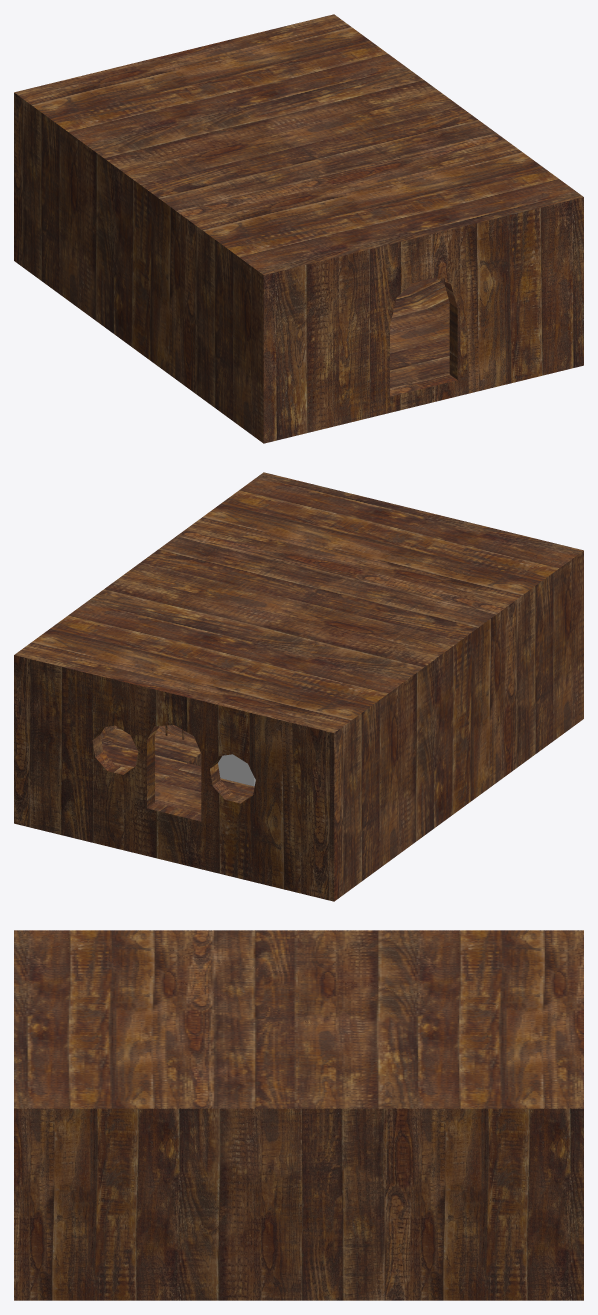
The model's file is captains_quarters.glb.
The picture shows the model from 3 angles, top to bottom: view 1: azimuth 30°, elevation 25°; view 2: azimuth 150°, elevation 25°; view 3: azimuth 270°, elevation 25°; orthographic projection. The views are drawn at different scales.
Parts seen in each view (by area): view 1: captains_quarters; view 2: captains_quarters, person; view 3: captains_quarters.
Boxes of the visible parts, bbox=[...] form: captains_quarters: bbox=[14, 14, 583, 443]; captains_quarters: bbox=[14, 472, 583, 901]; person: bbox=[218, 754, 255, 786]; captains_quarters: bbox=[14, 930, 583, 1300].
Bounding box in the file's own units: 8.69 × 4.37 × 11.74.
1 material, 1 textured.
